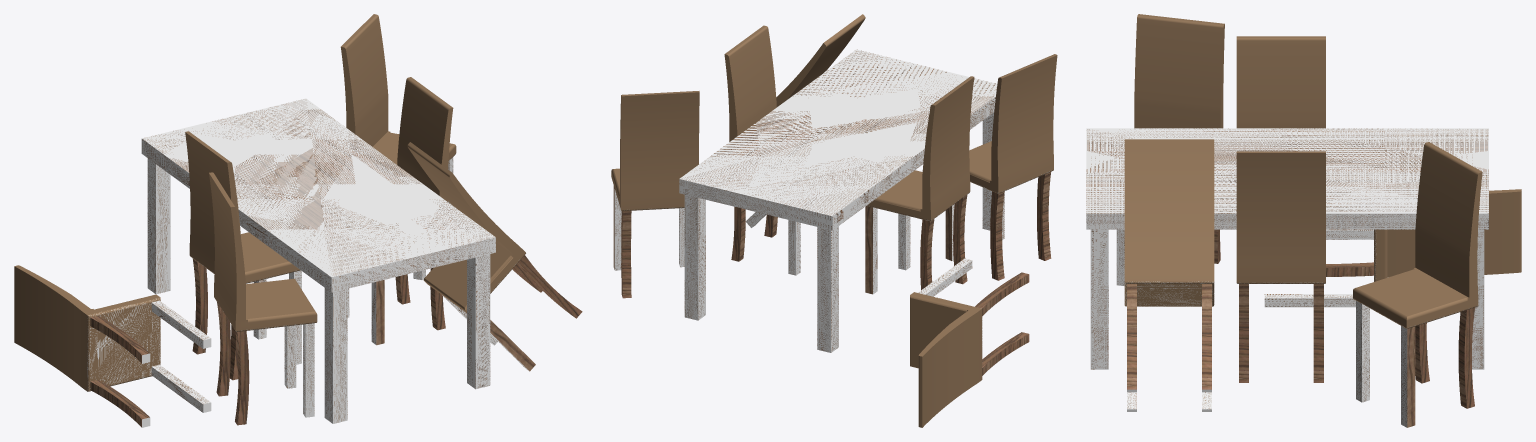
Rendered from yemek masası.dae.
The picture shows the model from 3 angles, left to right: view 1: azimuth 30°, elevation 25°; view 2: azimuth 150°, elevation 25°; view 3: azimuth 270°, elevation 25°; orthographic projection. The views are drawn at different scales.
Visible parts, largest first — view 1: group_1 (×4), group_9 (×5), group_7 (×5), group_8 (×2), group_5 (×3), group_3, group_4 (×2); view 2: group_1 (×4), group_7 (×4), group_8 (×5), group_3 (×3), group_9 (×4), group_4 (×3), group_5; view 3: group_1 (×3), group_3 (×6), group_5 (×3), group_4 (×3), group_7 (×2), group_8, group_9 (×5).
Part boxes in pixels (x1=…): group_1 (×4): x1=141, y1=98, x2=495, y2=423; group_9 (×5): x1=14, y1=265, x2=210, y2=427; group_7 (×5): x1=209, y1=172, x2=317, y2=425; group_8 (×2): x1=185, y1=131, x2=300, y2=354; group_5 (×3): x1=407, y1=142, x2=582, y2=371; group_3: x1=340, y1=14, x2=455, y2=164; group_4 (×2): x1=371, y1=77, x2=453, y2=345; group_1 (×4): x1=679, y1=49, x2=997, y2=352; group_7 (×4): x1=945, y1=54, x2=1057, y2=280; group_8 (×5): x1=865, y1=76, x2=974, y2=294; group_3 (×3): x1=611, y1=91, x2=699, y2=298; group_9 (×4): x1=910, y1=258, x2=1029, y2=427; group_4 (×3): x1=724, y1=25, x2=800, y2=275; group_5: x1=776, y1=14, x2=865, y2=107; group_1 (×3): x1=1086, y1=128, x2=1488, y2=369; group_3 (×6): x1=1353, y1=142, x2=1482, y2=427; group_5 (×3): x1=1124, y1=139, x2=1214, y2=389; group_4 (×3): x1=1236, y1=151, x2=1325, y2=382; group_7 (×2): x1=1116, y1=14, x2=1224, y2=285; group_8: x1=1236, y1=36, x2=1325, y2=128; group_9 (×5): x1=1264, y1=189, x2=1521, y2=307.
Size of the model in its own units: 83.55 by 76.67 by 53.35.
Materials: 3 (1 with a texture image).
